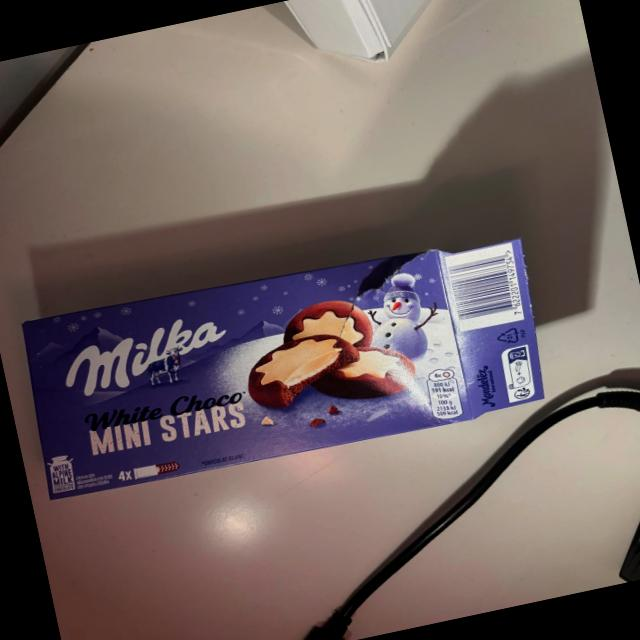damaged_package: (12, 216, 555, 507)
